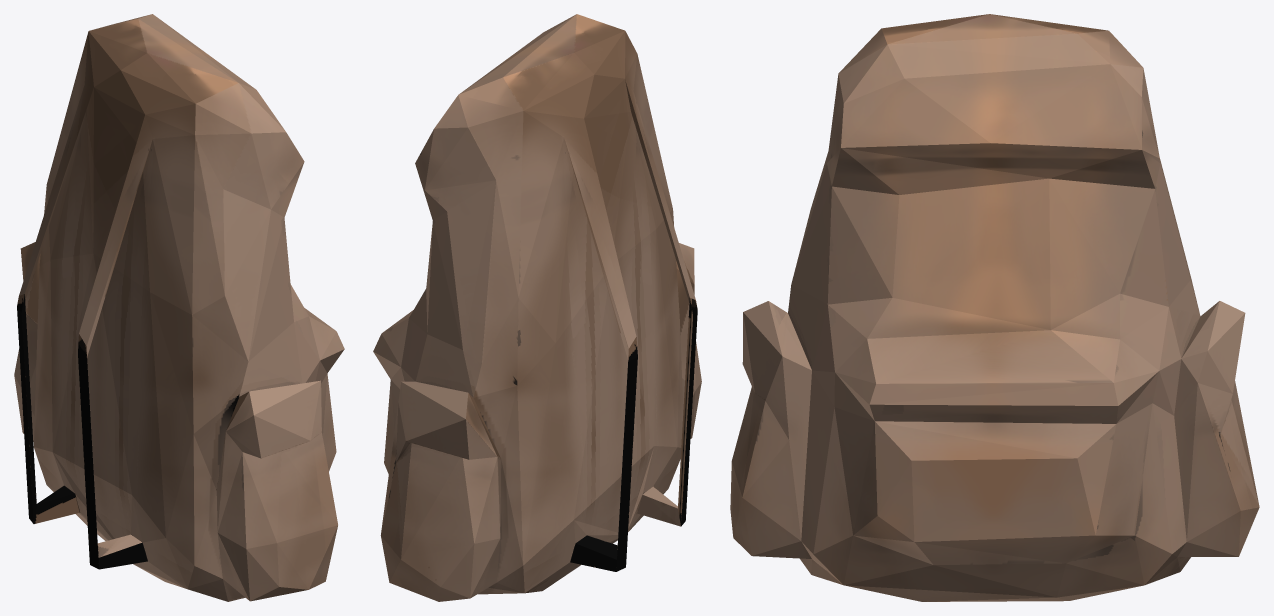
File: Back_pack.obj
3 renders of one model, left to right at view 1: azimuth 30°, elevation 25°; view 2: azimuth 150°, elevation 25°; view 3: azimuth 270°, elevation 25°, orthographic. The views are drawn at different scales.
Parts seen in each view (by area): view 1: BackPack_lowPoly_Cube.001; view 2: BackPack_lowPoly_Cube.001; view 3: BackPack_lowPoly_Cube.001.
Part boxes in pixels (x1,y1,x2,y2): BackPack_lowPoly_Cube.001: (14, 14, 344, 601); BackPack_lowPoly_Cube.001: (373, 14, 701, 601); BackPack_lowPoly_Cube.001: (730, 14, 1259, 601).
Bounding box in the file's own units: 1.85 × 3.79 × 3.28.
